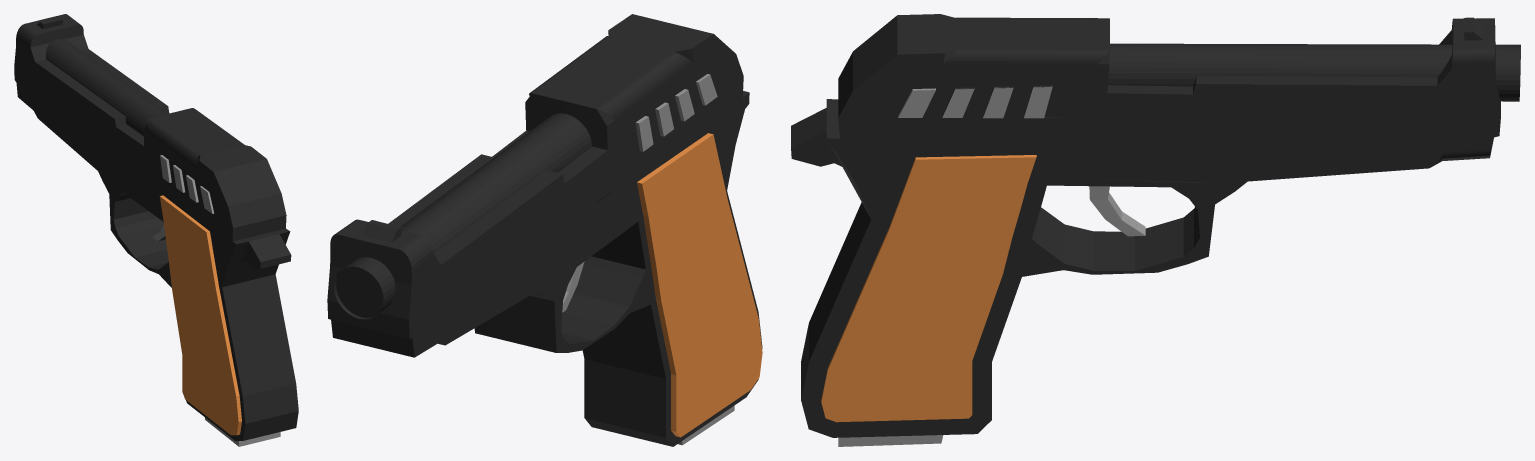
Rendered from pistol.fbx.
The picture shows the model from 3 angles, left to right: view 1: azimuth 30°, elevation 25°; view 2: azimuth 150°, elevation 25°; view 3: azimuth 270°, elevation 25°; orthographic projection. The views are drawn at different scales.
Visible parts, largest first — view 1: bretta pistol, Clip; view 2: bretta pistol; view 3: bretta pistol, Clip.
Part boxes in pixels (<box>): bretta pistol: <box>14,14,298,440</box>; Clip: <box>205,417,280,446</box>; bretta pistol: <box>327,14,762,446</box>; bretta pistol: <box>791,14,1520,437</box>; Clip: <box>838,435,943,446</box>.
Size of the model in its own units: 17.84 by 76.36 by 124.
